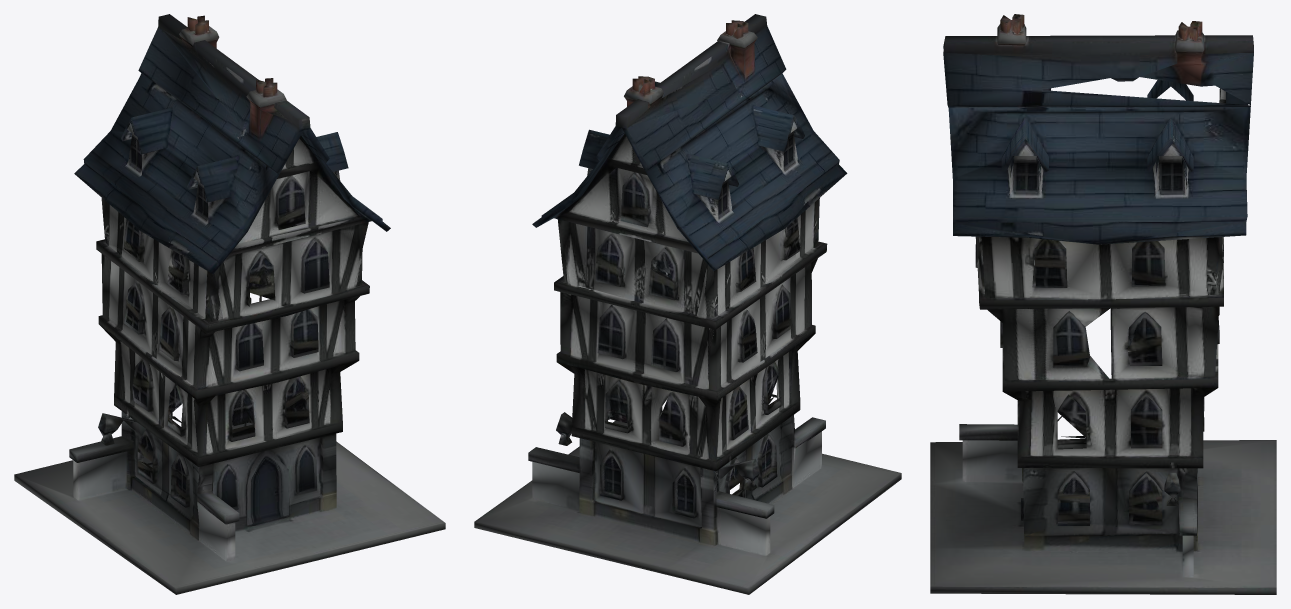
The model's file is alley.glb.
3 renders of one model, left to right at view 1: azimuth 30°, elevation 25°; view 2: azimuth 150°, elevation 25°; view 3: azimuth 270°, elevation 25°, orthographic. The views are drawn at different scales.
Visible parts, largest first — view 1: tripo_node_94e7d52b-d3fc-4e99-9414-bc3ef; view 2: tripo_node_94e7d52b-d3fc-4e99-9414-bc3ef; view 3: tripo_node_94e7d52b-d3fc-4e99-9414-bc3ef.
Part boxes in pixels (left/top/right/bottom): tripo_node_94e7d52b-d3fc-4e99-9414-bc3ef: left=14, top=14, right=445, bottom=594; tripo_node_94e7d52b-d3fc-4e99-9414-bc3ef: left=474, top=14, right=901, bottom=594; tripo_node_94e7d52b-d3fc-4e99-9414-bc3ef: left=930, top=14, right=1276, bottom=594.
Bounding box in the file's own units: 15.26 × 24 × 15.08.
Materials: 1 (1 with a texture image).
